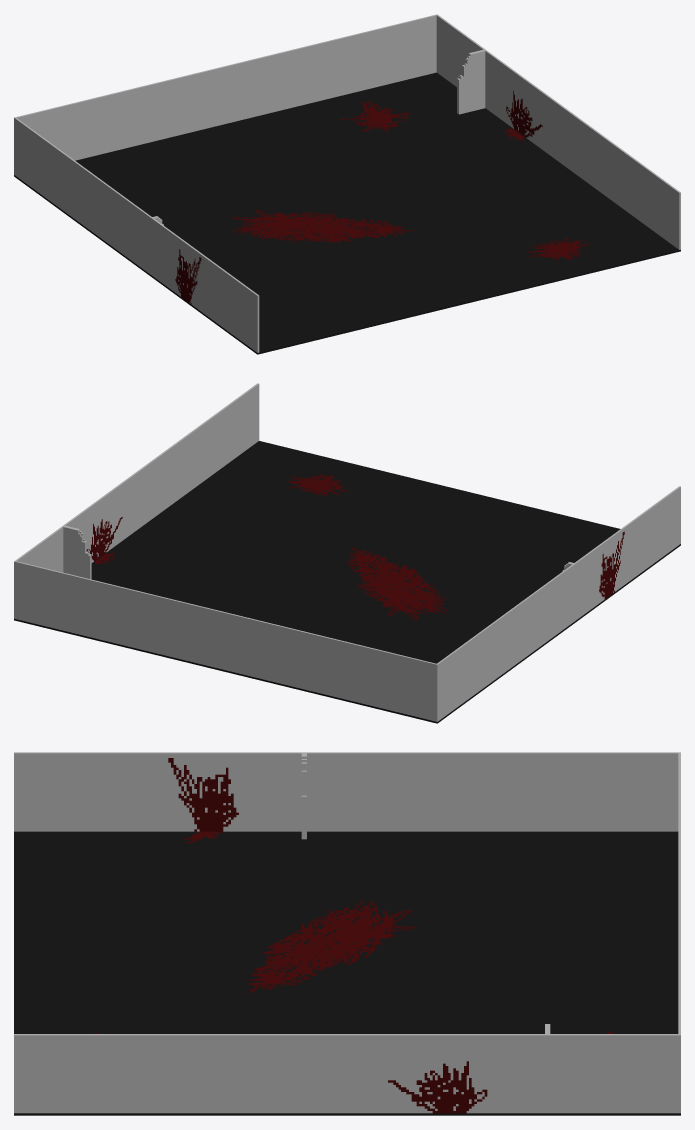
The model's file is Test-salle.obj.
3 renders of one model, top to bottom at view 1: azimuth 30°, elevation 25°; view 2: azimuth 150°, elevation 25°; view 3: azimuth 270°, elevation 25°, orthographic. The views are drawn at different scales.
Bounding box in the file's own units: 25.6 × 3.4 × 25.5.
Materials: 1 (1 with a texture image).
